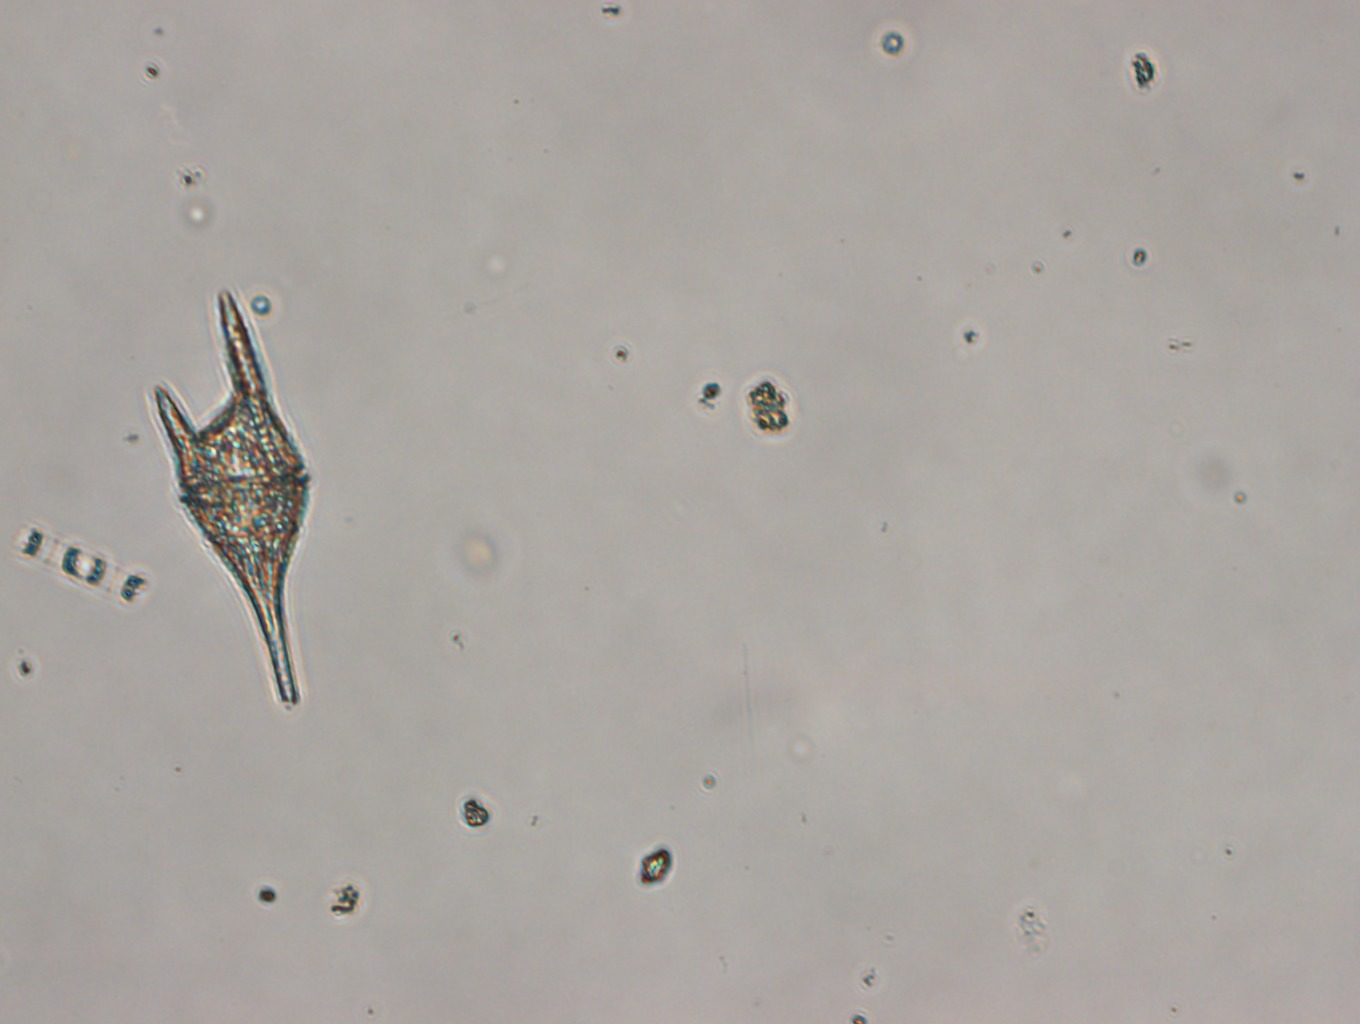ceratium furca: (146, 286, 318, 714)
skeletonema: (10, 524, 147, 603)
